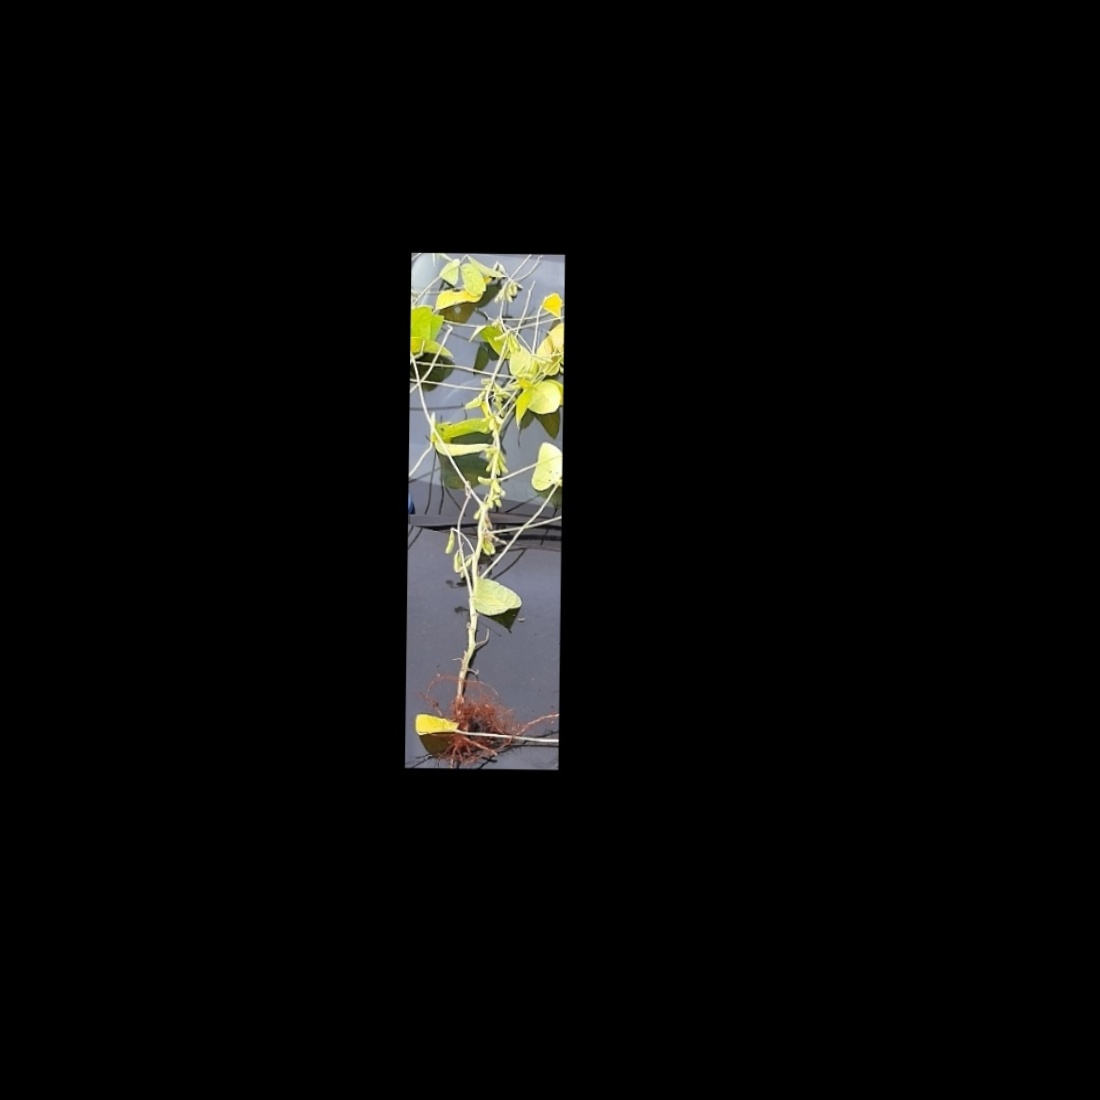pod: (442, 527, 457, 557), (475, 474, 496, 488), (497, 455, 509, 476), (482, 446, 502, 457)
soy: (412, 262, 561, 753)
